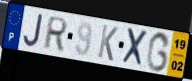9: (74, 20, 95, 58)
G: (145, 31, 171, 73)
J: (22, 12, 45, 48)
K: (96, 23, 120, 63)
R: (41, 15, 69, 52)
X: (120, 27, 149, 70)
